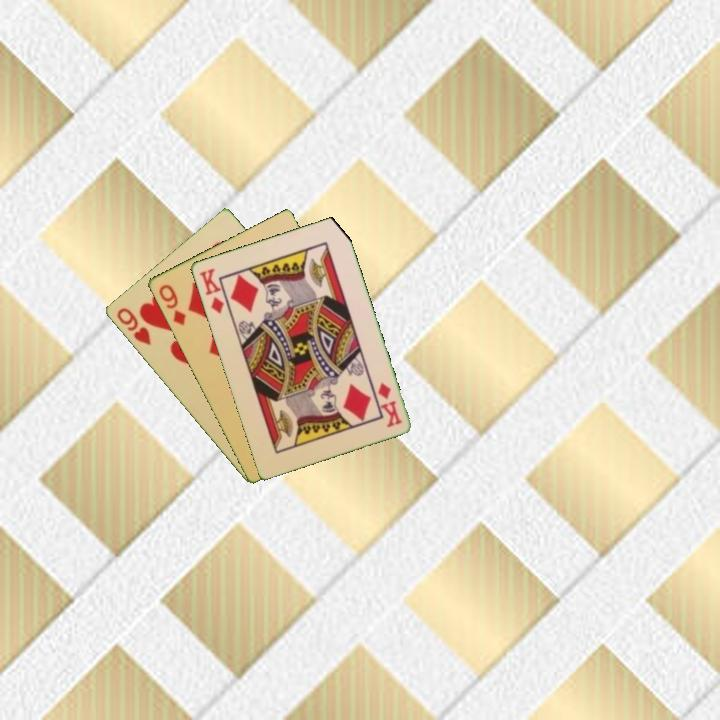9d: (155, 280, 188, 328)
9h: (113, 304, 154, 348)
Kd: (195, 264, 227, 317), (374, 378, 405, 430)
